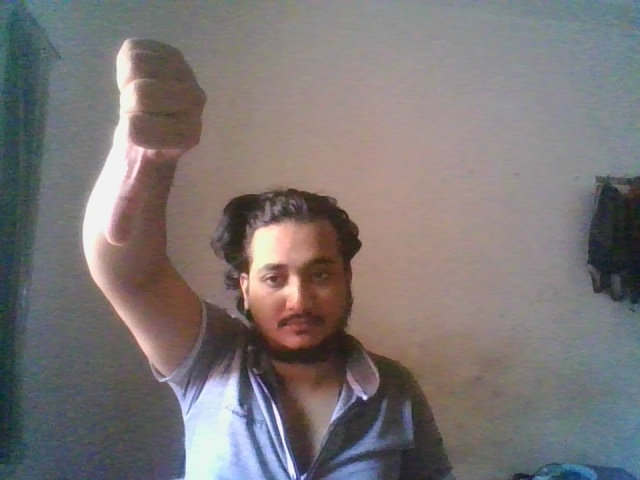ThumbsDown: (104, 38, 208, 248)
